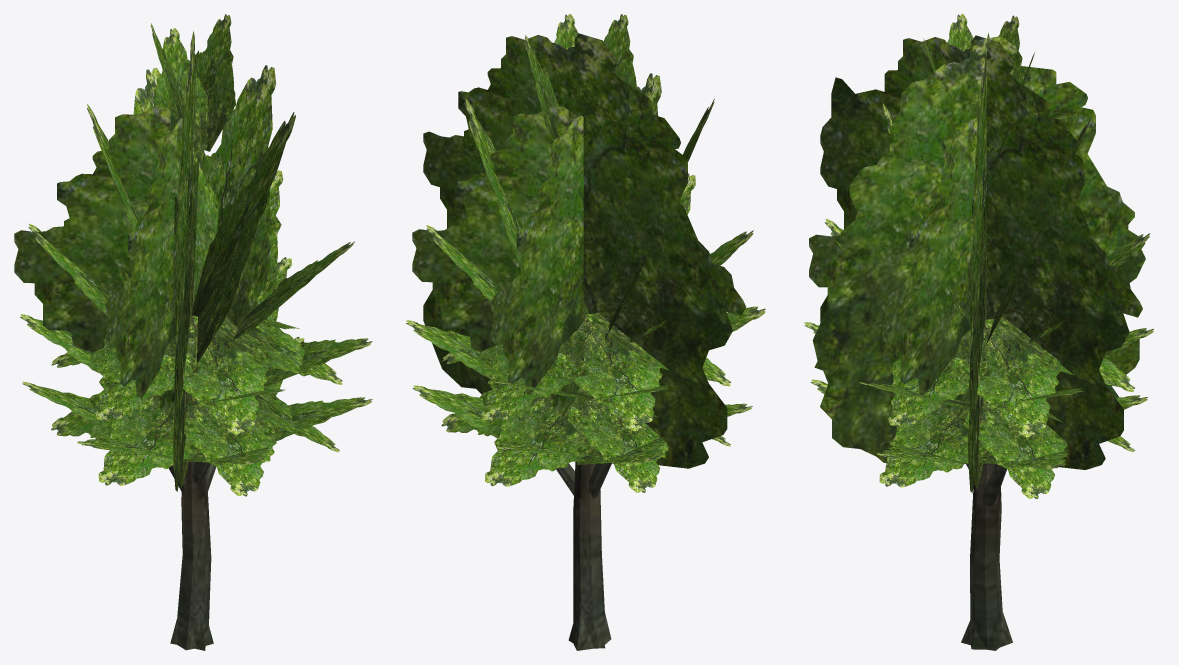
File: simple-texture-tree-0.glb
3 views of the same model, side by side, from view 1: azimuth 30°, elevation 25°; view 2: azimuth 150°, elevation 25°; view 3: azimuth 270°, elevation 25° (orthographic).
Parts seen in each view (by area): view 1: boomkroon, Tree; view 2: boomkroon, Tree; view 3: boomkroon, Tree.
Part boxes in pixels (x1,y1,x2,y2): boomkroon: (14,14,372,496); Tree: (168,461,216,650); boomkroon: (406,14,765,492); Tree: (556,461,611,650); boomkroon: (804,14,1153,498); Tree: (961,463,1012,650).
Size of the model in its own units: 6.93 by 11.91 by 6.35.
Materials: 2 (2 with a texture image).
